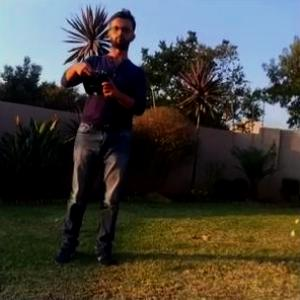follow: (51, 3, 151, 271)
